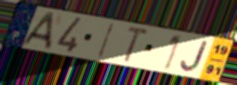1: (163, 34, 183, 71)
4: (54, 16, 84, 54)
A: (20, 11, 57, 51)
I: (96, 22, 117, 60)
J: (179, 39, 210, 73)
T: (120, 25, 151, 64)
